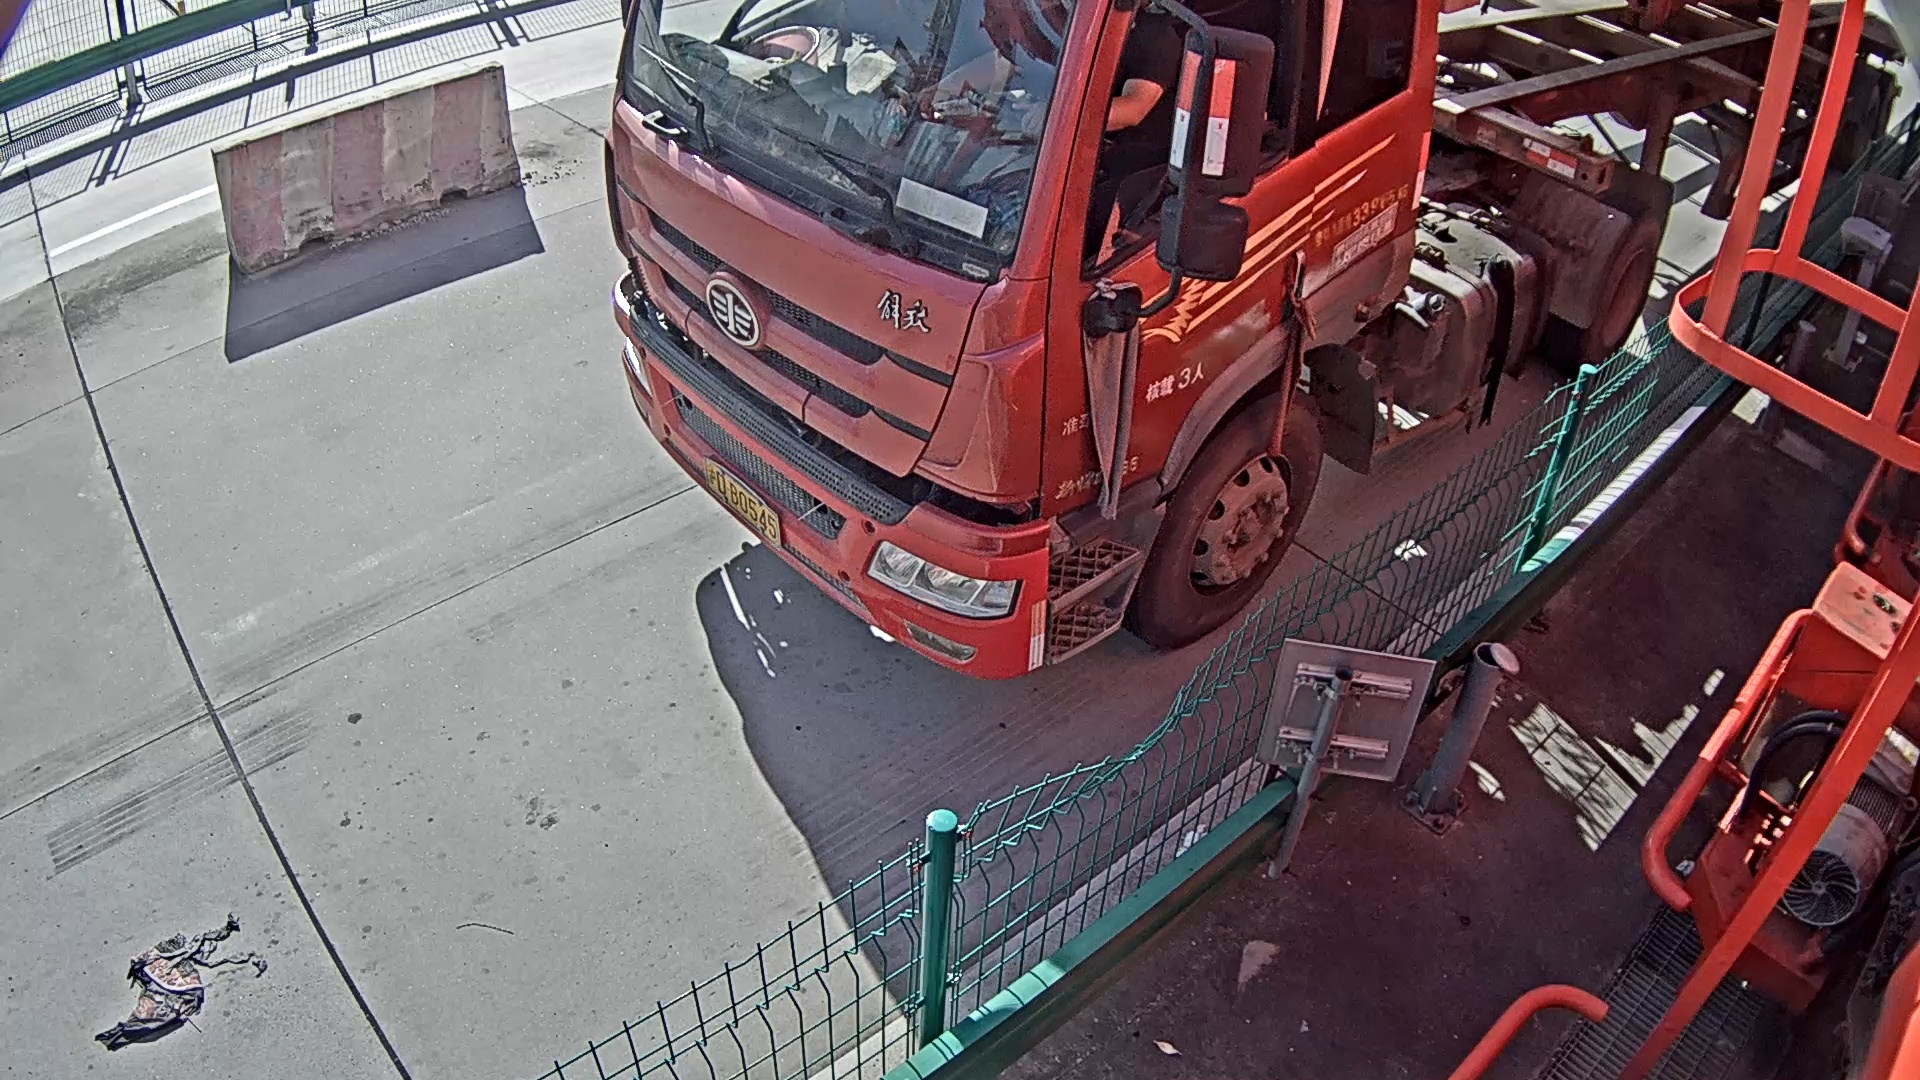head: (605, 2, 1439, 677)
plate: (699, 456, 786, 544)
